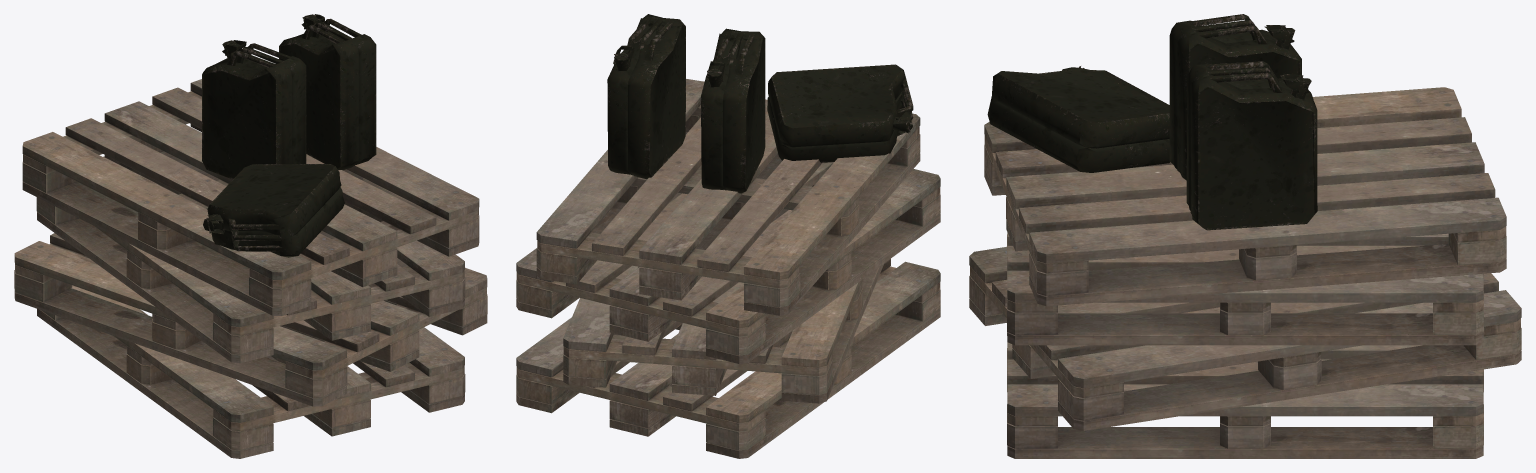
The model's file is VV_petrolcanister_a.fbx.
3 renders of one model, left to right at view 1: azimuth 30°, elevation 25°; view 2: azimuth 150°, elevation 25°; view 3: azimuth 270°, elevation 25°, orthographic. The views are drawn at different scales.
Visible parts, largest first — view 1: VV_petrolcanister_a; view 2: VV_petrolcanister_a; view 3: VV_petrolcanister_a.
Part boxes in pixels (bbox=[...]): VV_petrolcanister_a: bbox=[14, 14, 487, 458]; VV_petrolcanister_a: bbox=[516, 14, 940, 458]; VV_petrolcanister_a: bbox=[969, 14, 1521, 458].
Bounding box in the file's own units: 142 × 126 × 171.
Materials: 2 (2 with a texture image).
